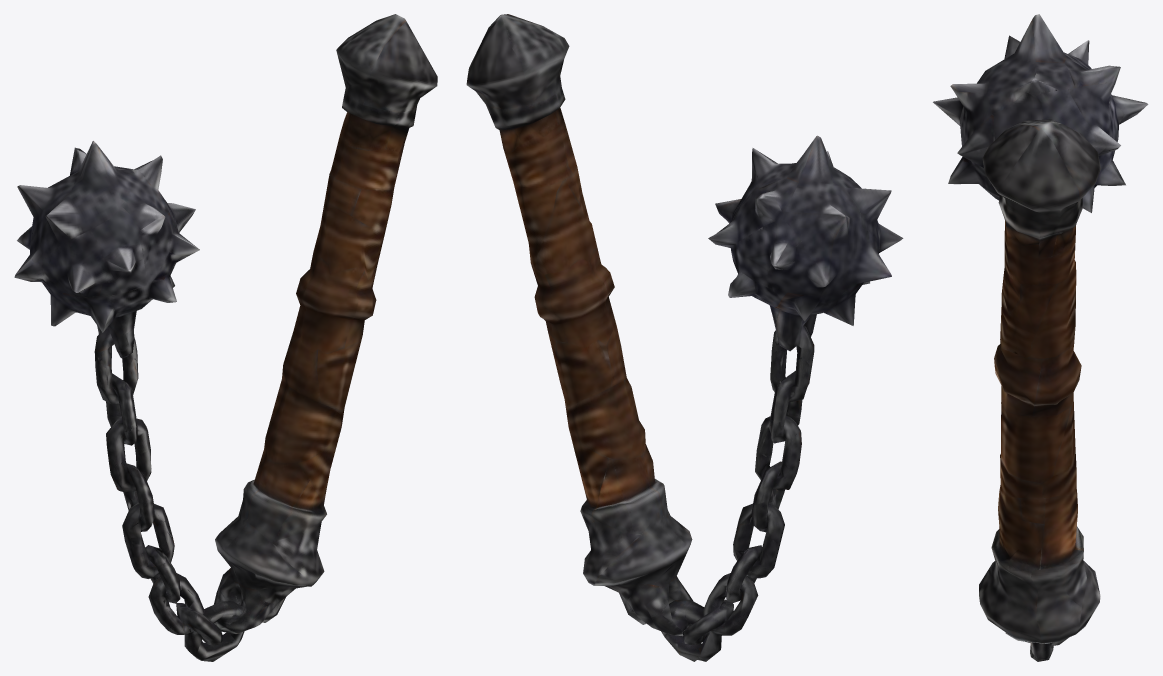
Rendered from 1567_flail.glb.
3 views of the same model, side by side, from view 1: azimuth 30°, elevation 25°; view 2: azimuth 150°, elevation 25°; view 3: azimuth 270°, elevation 25° (orthographic). The views are drawn at different scales.
Parts seen in each view (by area): view 1: Model; view 2: Model; view 3: Model.
Part boxes in pixels (left/top/right/bottom): Model: left=14, top=14, right=437, bottom=661; Model: left=466, top=14, right=903, bottom=661; Model: left=933, top=14, right=1148, bottom=661.
Bounding box in the file's own units: 0.729 × 1 × 0.3087.
Materials: 1 (1 with a texture image).
